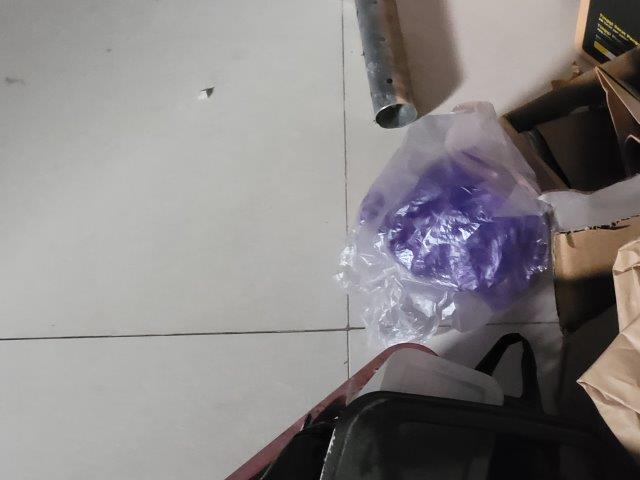plastik: (333, 101, 558, 344)
